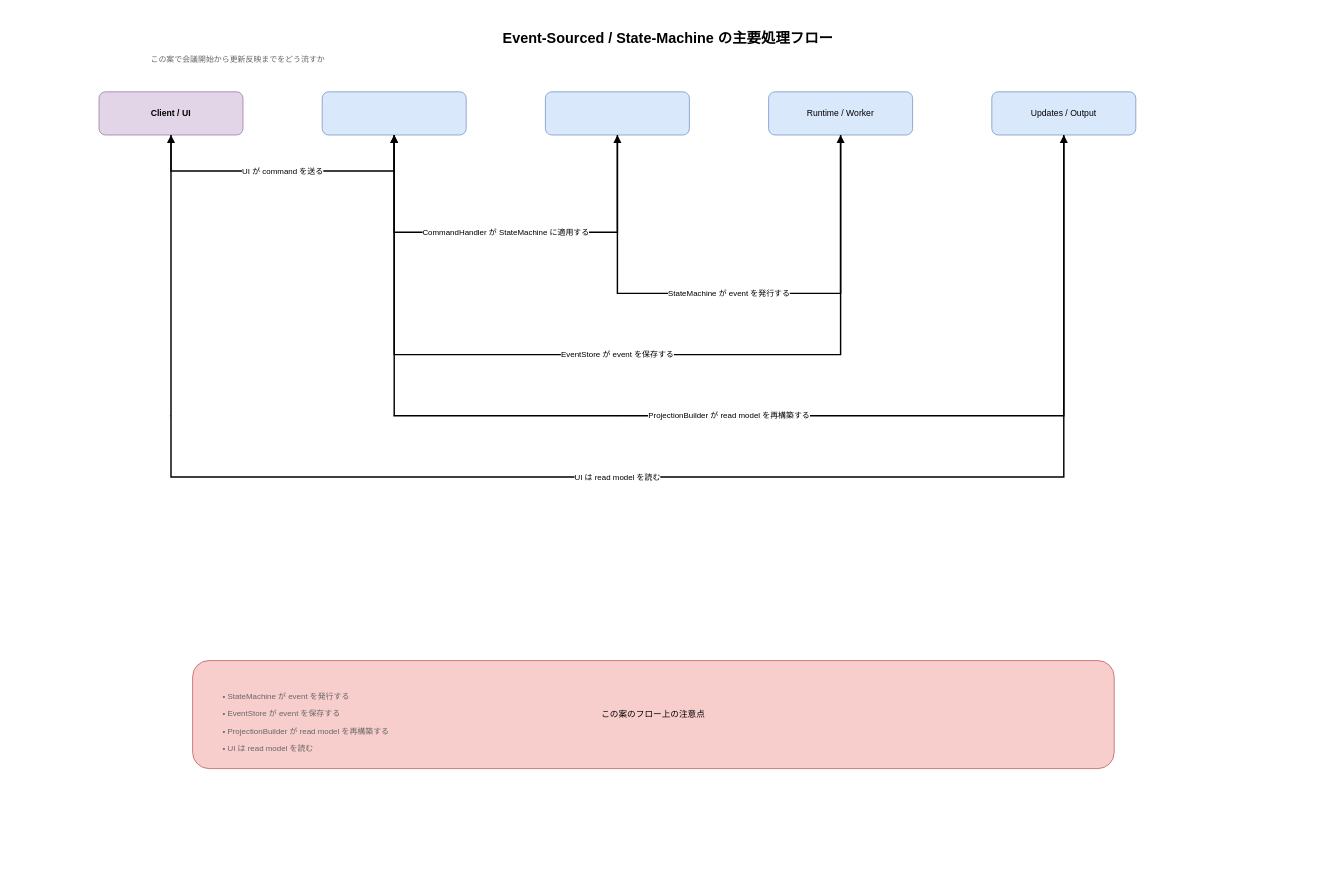
This 1320x888 diagram has some shape labels left out. The shapes that lost their labels are listed below. From the top down, each one's centre as x and y in pixels, then its label:
At point (393, 113): "Coordinator".
At point (617, 113): "State / Domain".
